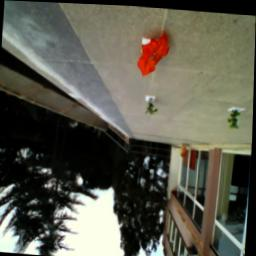herb: (228, 108, 244, 129), (147, 96, 158, 115)
wild: (138, 30, 172, 78)
